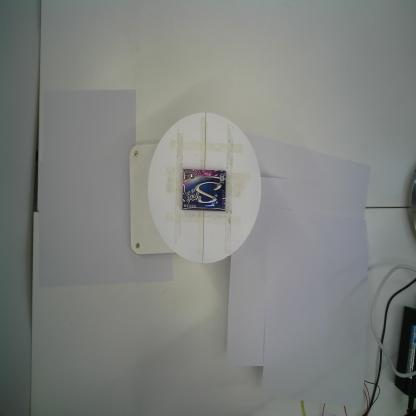Gum: (181, 168, 226, 212)
